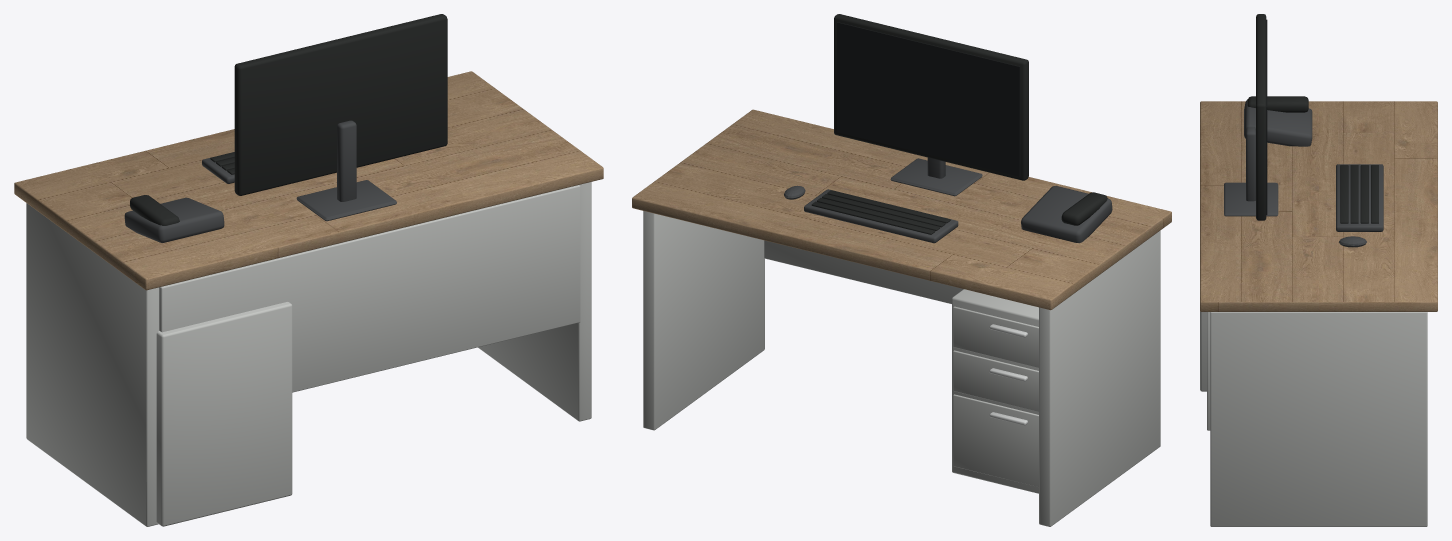
Rendered from desk.glb.
The picture shows the model from 3 angles, left to right: view 1: azimuth 30°, elevation 25°; view 2: azimuth 150°, elevation 25°; view 3: azimuth 270°, elevation 25°; orthographic projection. The views are drawn at different scales.
Parts seen in each view (by area): view 1: Cube.001, Cube; view 2: Cube.001, Cube; view 3: Cube.001, Cube.
Boxes of the visible parts, <box> form: Cube.001: <box>26,14,591,526</box>; Cube: <box>14,71,603,290</box>; Cube.001: <box>643,14,1160,526</box>; Cube: <box>632,109,1171,310</box>; Cube.001: <box>1200,14,1427,526</box>; Cube: <box>1200,101,1437,311</box>.
Bounding box in the file's own units: 1.4 × 1.21 × 0.7.
Materials: 2 (2 with a texture image).
